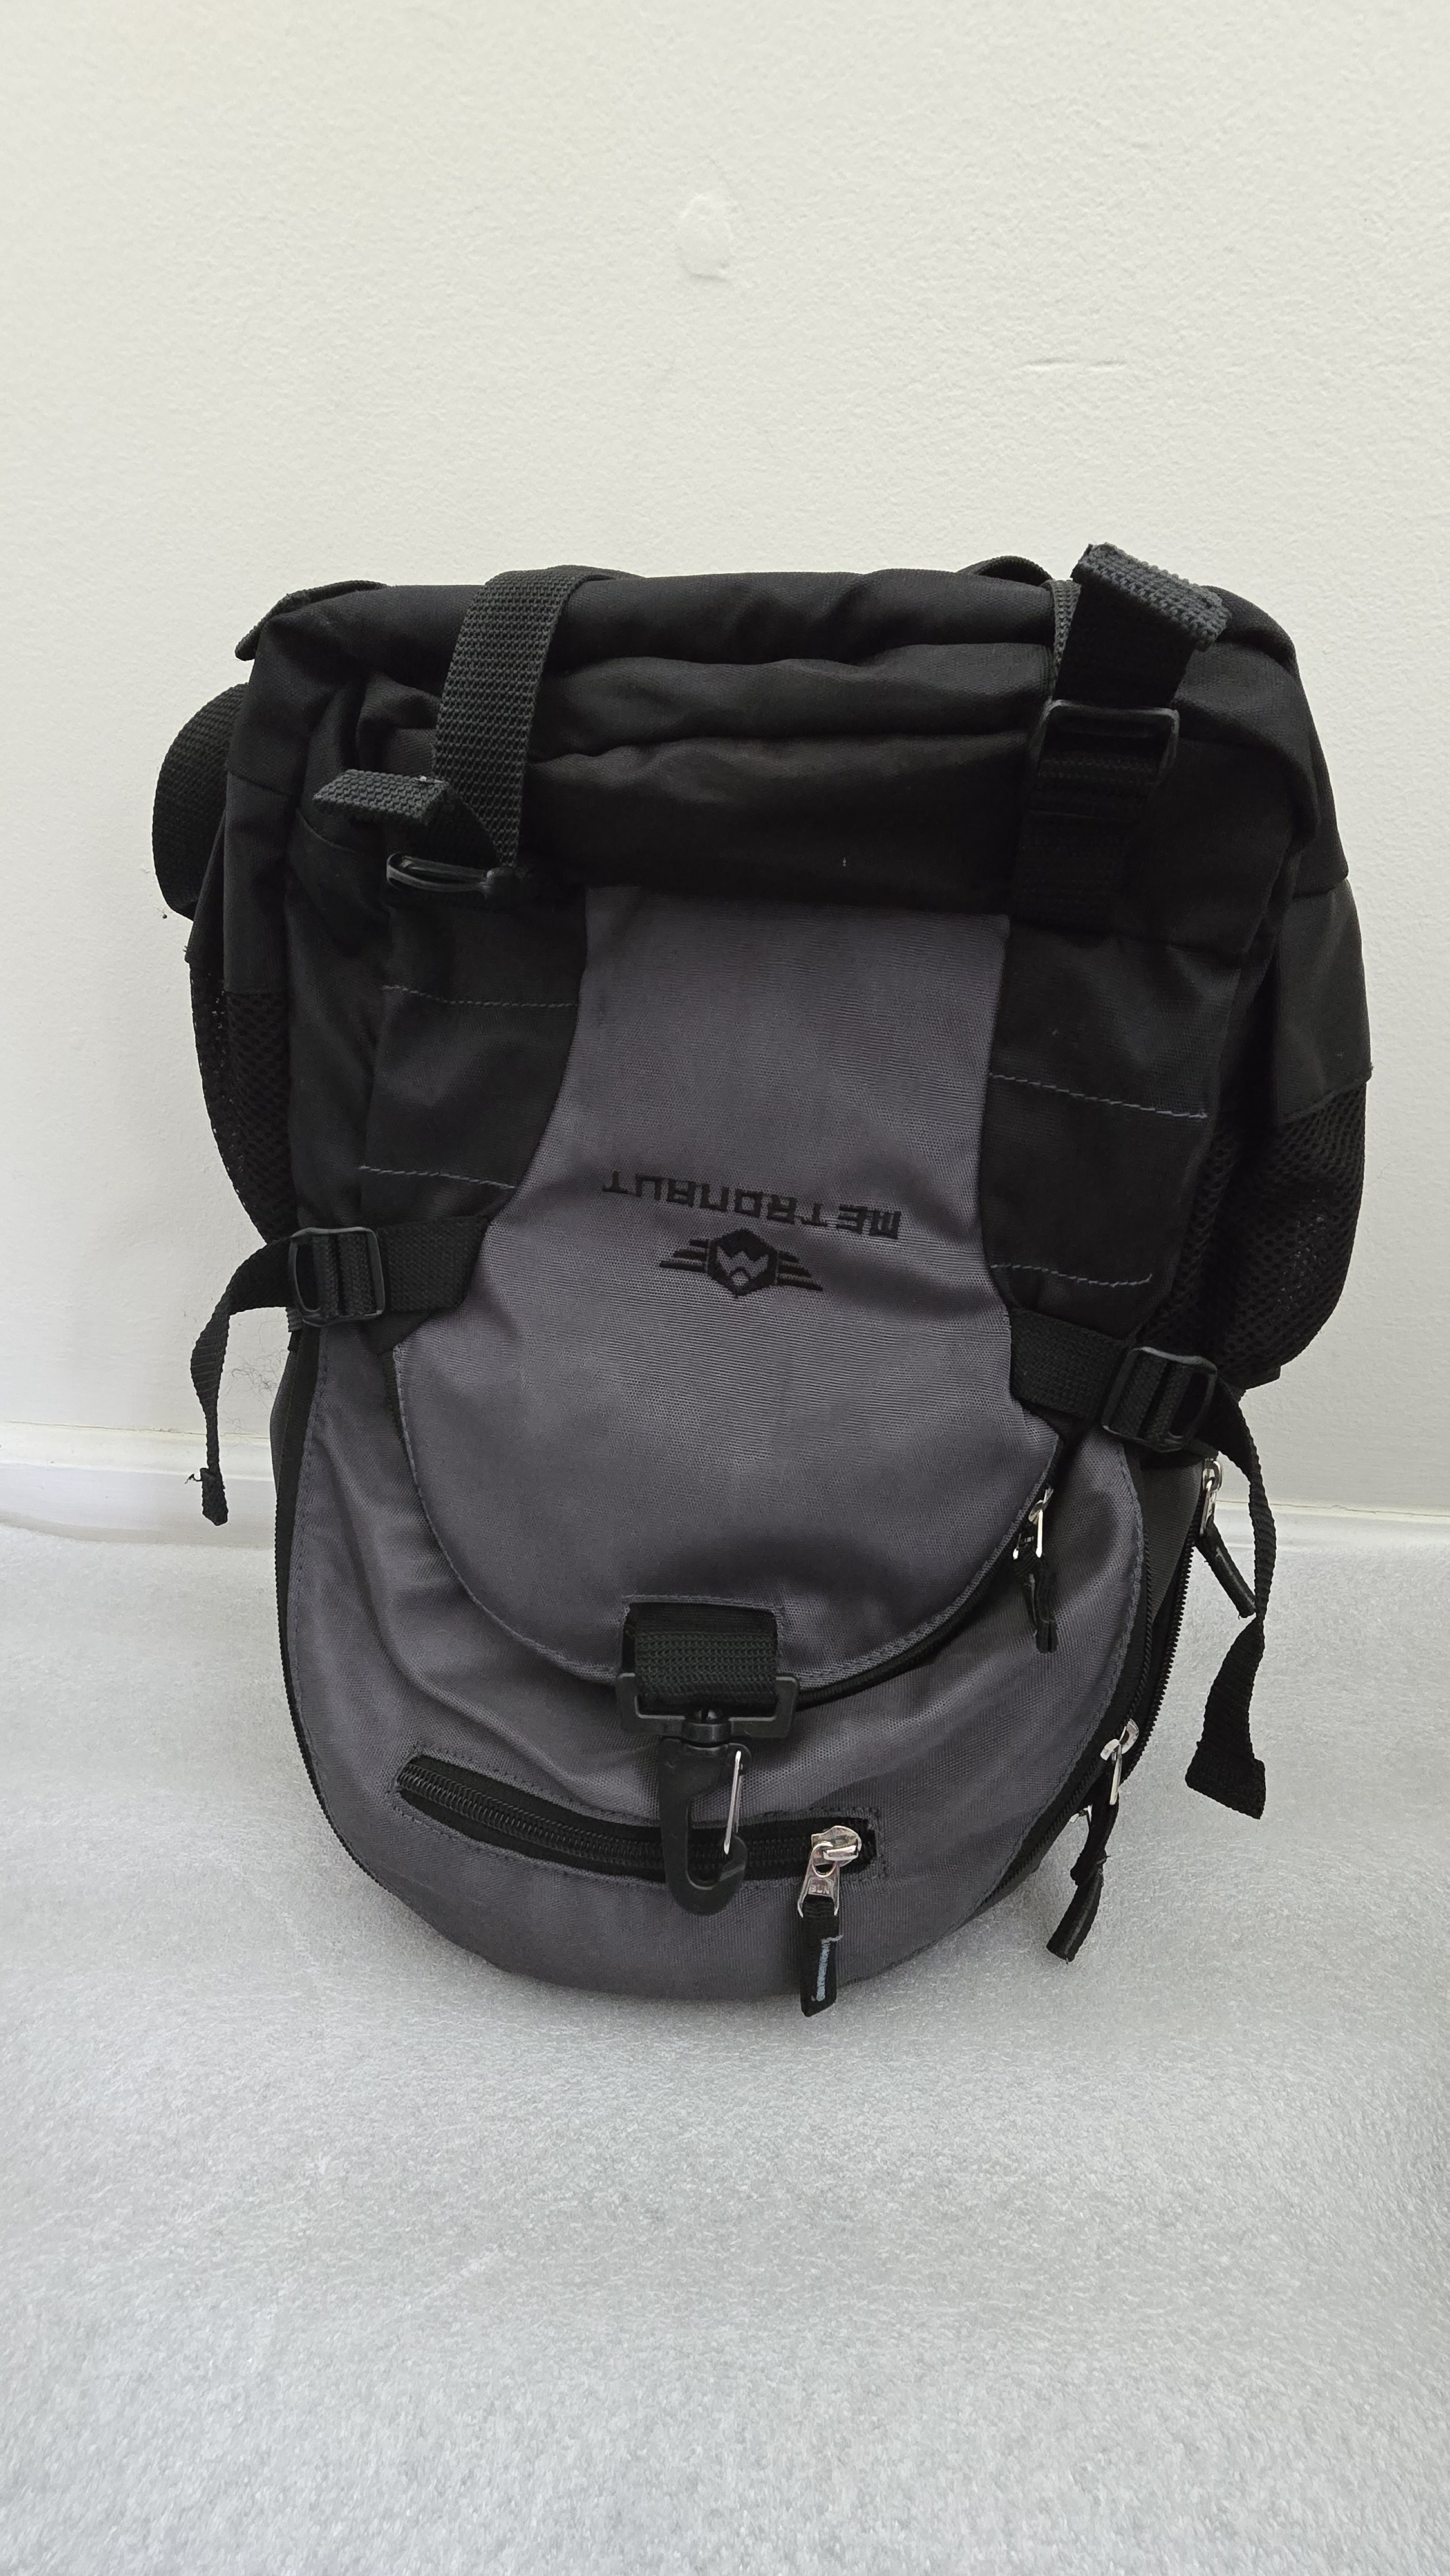bag: (126, 515, 1408, 2077)
